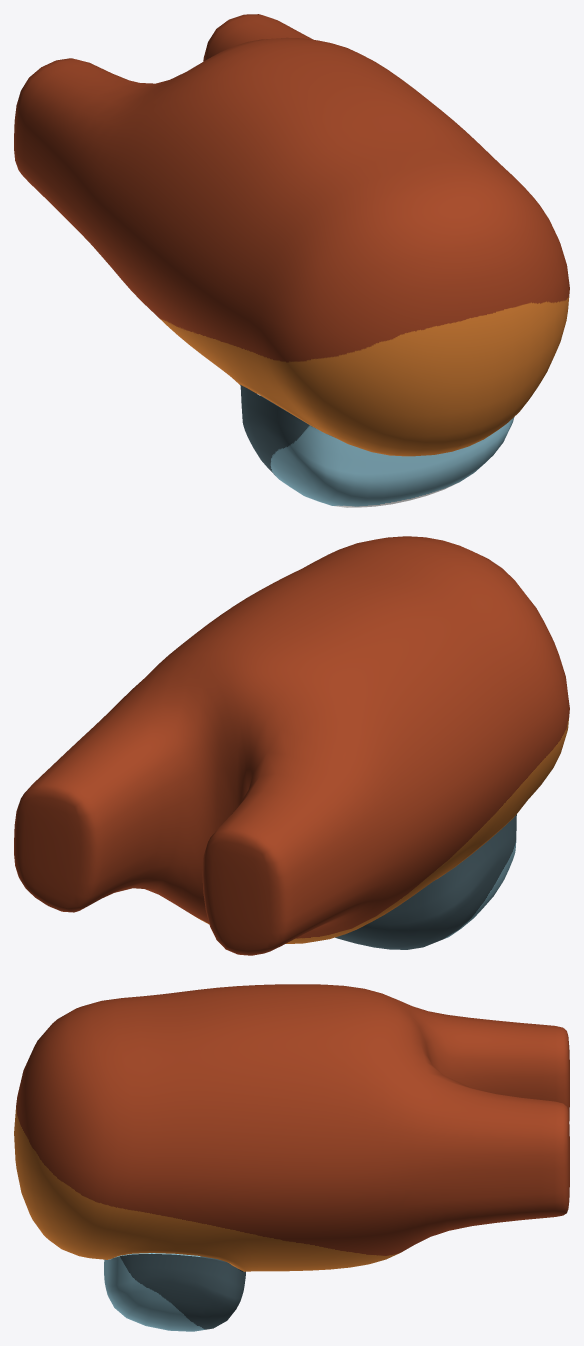
File: OrangeAstronaut.obj
3 renders of one model, top to bottom at view 1: azimuth 30°, elevation 25°; view 2: azimuth 150°, elevation 25°; view 3: azimuth 270°, elevation 25°, orthographic. The views are drawn at different scales.
Parts seen in each view (by area): view 1: Cube.002; view 2: Cube.002; view 3: Cube.002.
Boxes of the visible parts, x1=… form: Cube.002: x1=14, y1=14, x2=569, y2=507; Cube.002: x1=14, y1=536, x2=569, y2=955; Cube.002: x1=14, y1=984, x2=569, y2=1331.
Size of the model in its own units: 255 by 293 by 471.
1 material, 1 textured.
